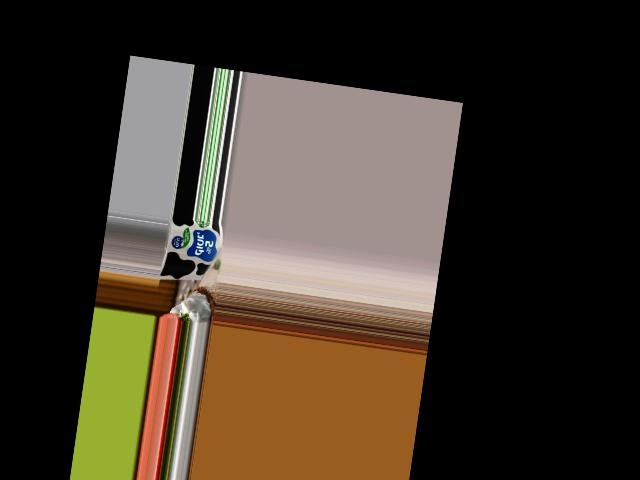cotage: (160, 216, 224, 284)
